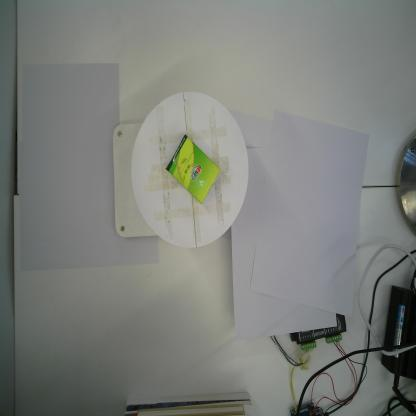Tissue: (165, 133, 220, 205)
